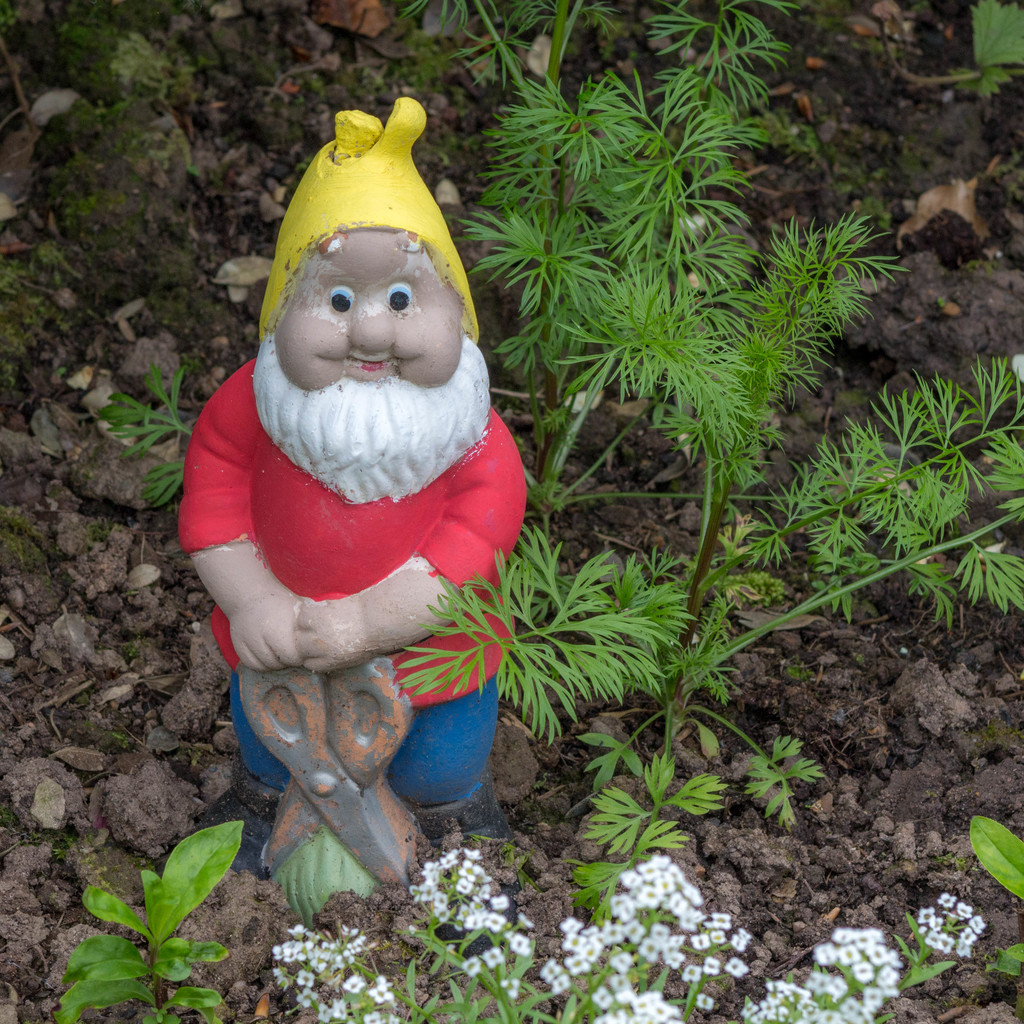Person: (177, 96, 527, 878)
